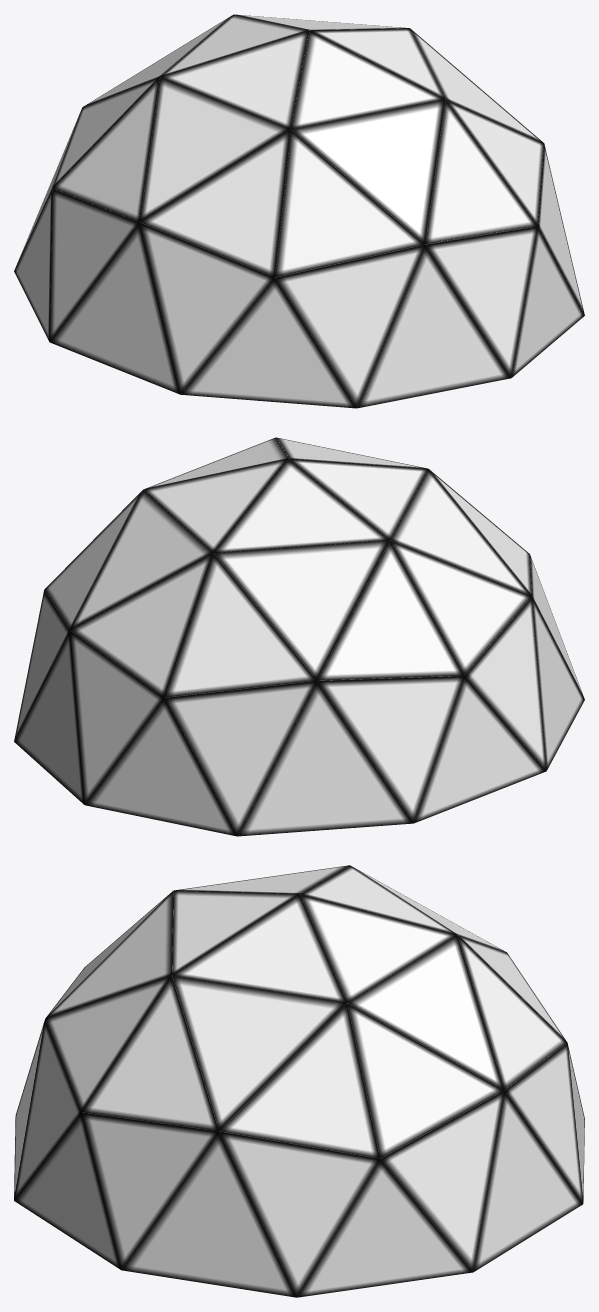
The model's file is dome2.obj.
The picture shows the model from 3 angles, top to bottom: view 1: azimuth 30°, elevation 25°; view 2: azimuth 150°, elevation 25°; view 3: azimuth 270°, elevation 25°; orthographic projection. The views are drawn at different scales.
Visible parts, largest first — view 1: Dome2_Icosphere.002; view 2: Dome2_Icosphere.002; view 3: Dome2_Icosphere.002.
Part boxes in pixels (bbox=[...]): Dome2_Icosphere.002: bbox=[14, 14, 584, 408]; Dome2_Icosphere.002: bbox=[14, 437, 584, 836]; Dome2_Icosphere.002: bbox=[14, 865, 584, 1297].
Bounding box in the file's own units: 0.0362 × 0.0189 × 0.0346.
